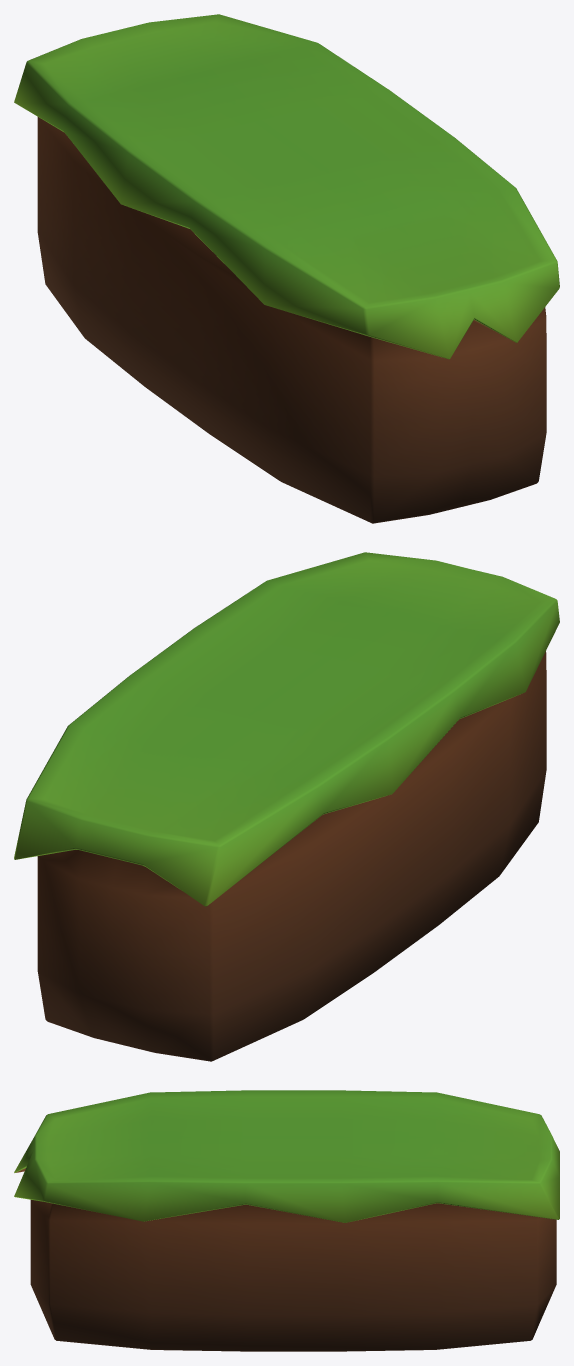
File: earthWall.fbx
3 renders of one model, top to bottom at view 1: azimuth 30°, elevation 25°; view 2: azimuth 150°, elevation 25°; view 3: azimuth 270°, elevation 25°, orthographic. The views are drawn at different scales.
Visible parts, largest first — view 1: earthWall; view 2: earthWall; view 3: earthWall.
Boxes of the visible parts, x1=… form: earthWall: x1=14, y1=14, x2=559, y2=523; earthWall: x1=14, y1=552, x2=559, y2=1061; earthWall: x1=14, y1=1090, x2=559, y2=1351.
Size of the model in its own units: 1444 by 1222 by 3443.
